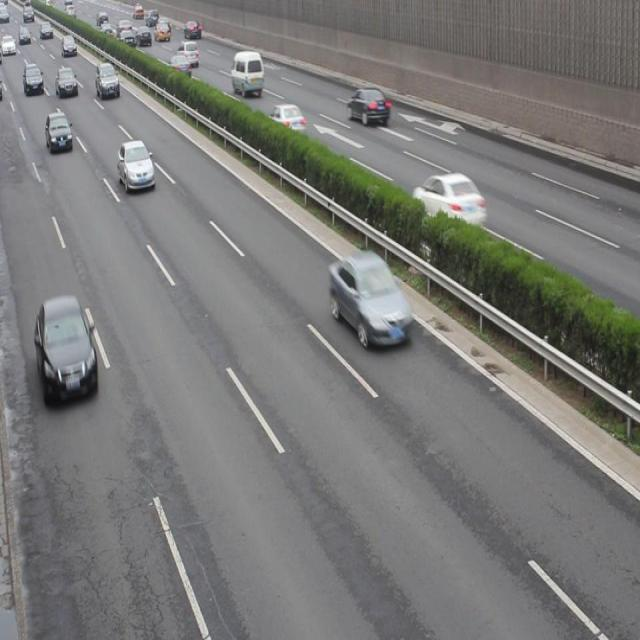car: (328, 250, 413, 350), (33, 294, 97, 405), (412, 172, 484, 238), (344, 84, 390, 130), (117, 139, 155, 194), (266, 104, 306, 142), (45, 110, 74, 154)
truck: (230, 51, 264, 97)
